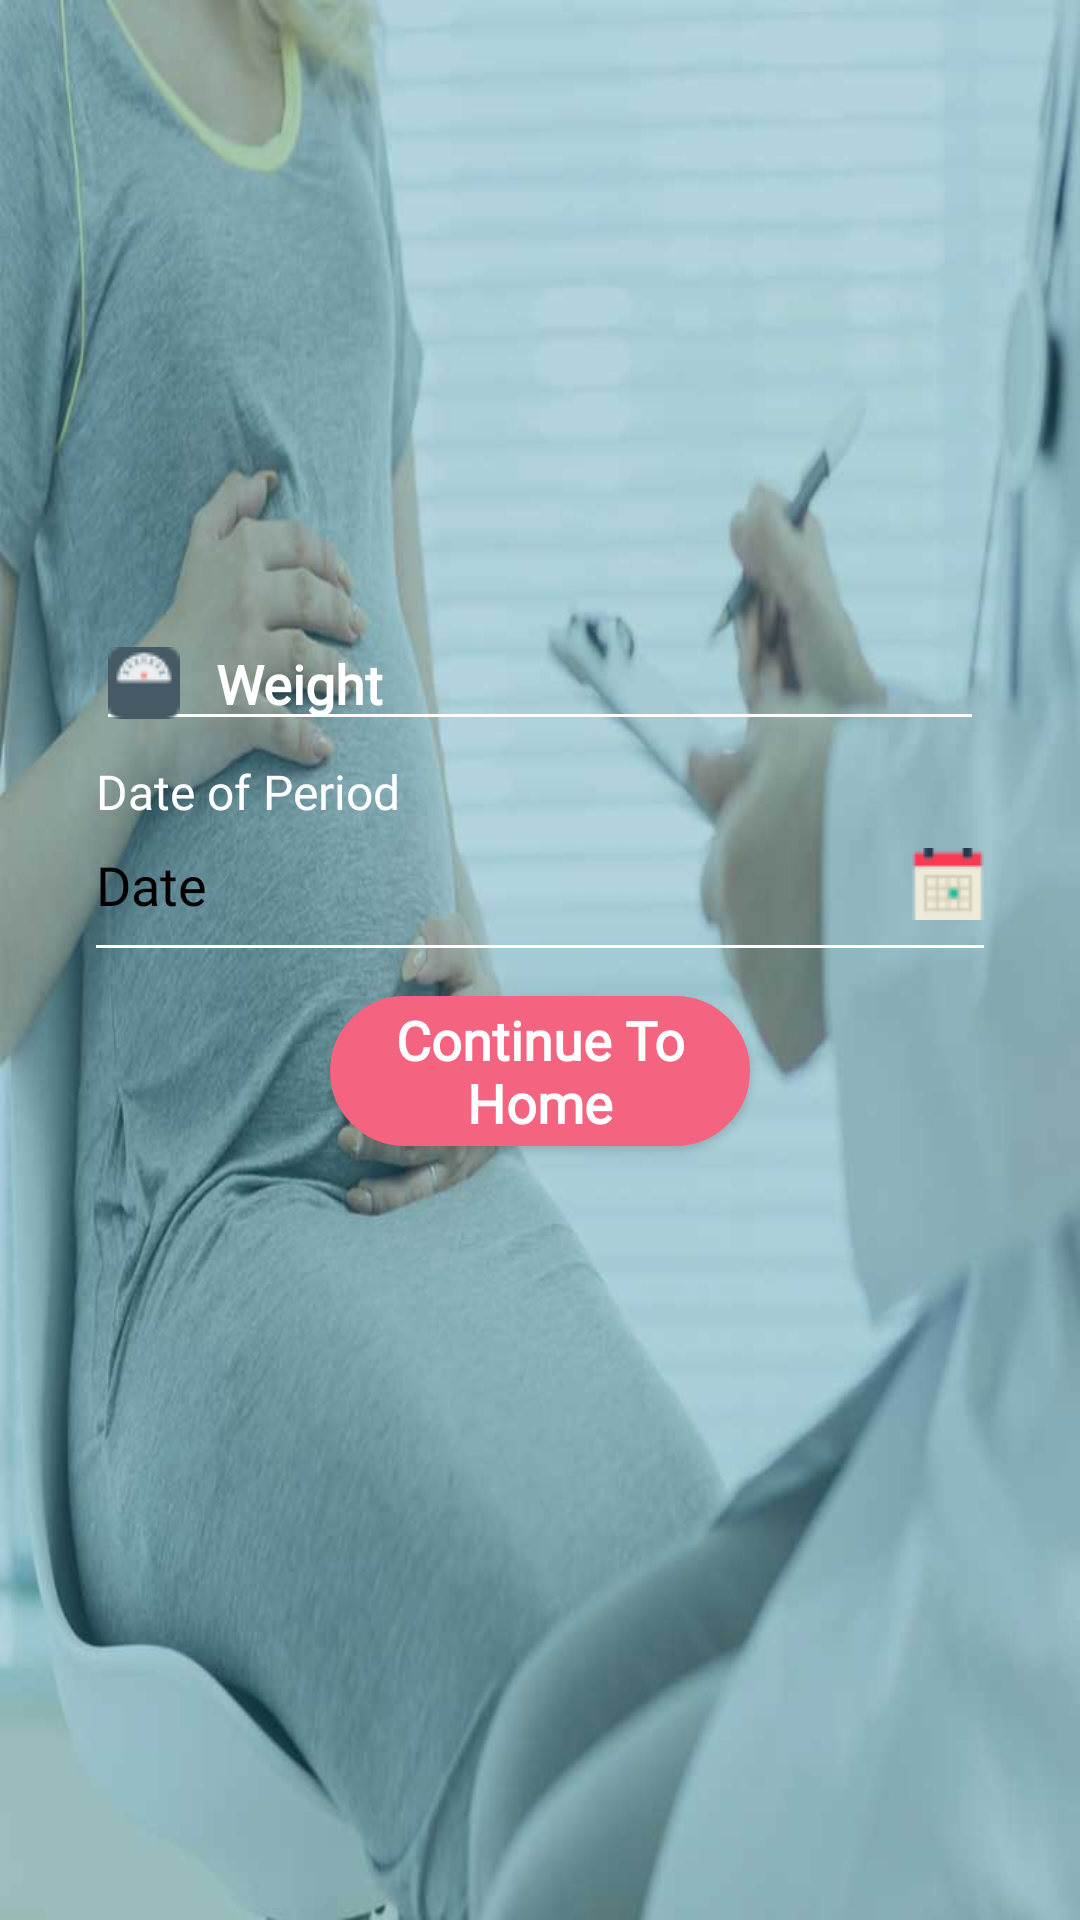

Where icons sit on this 1080w x 1920h app screen, as bbox=[x1, y1, x2, y2]:
calendar: bbox=[912, 848, 984, 920]
